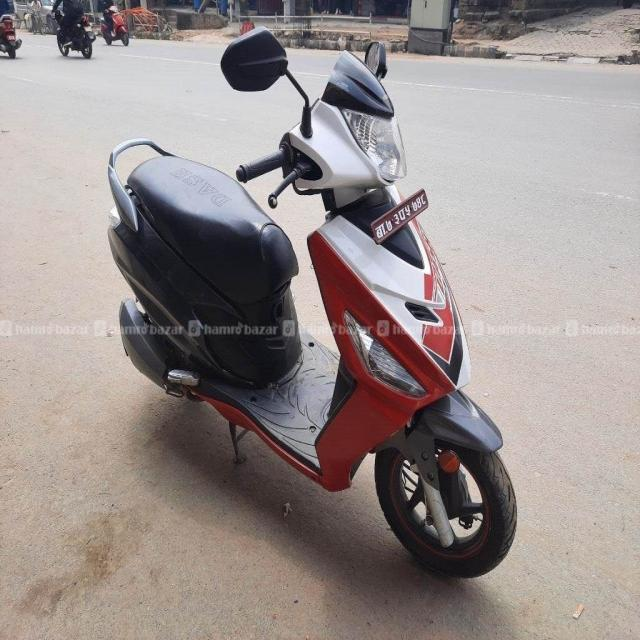License-plate: (345, 188, 470, 247)
